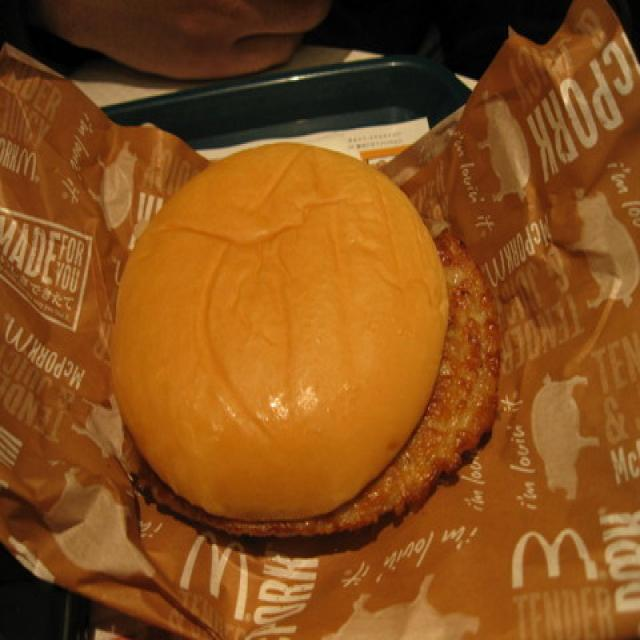汉堡快餐: (104, 117, 496, 539)
